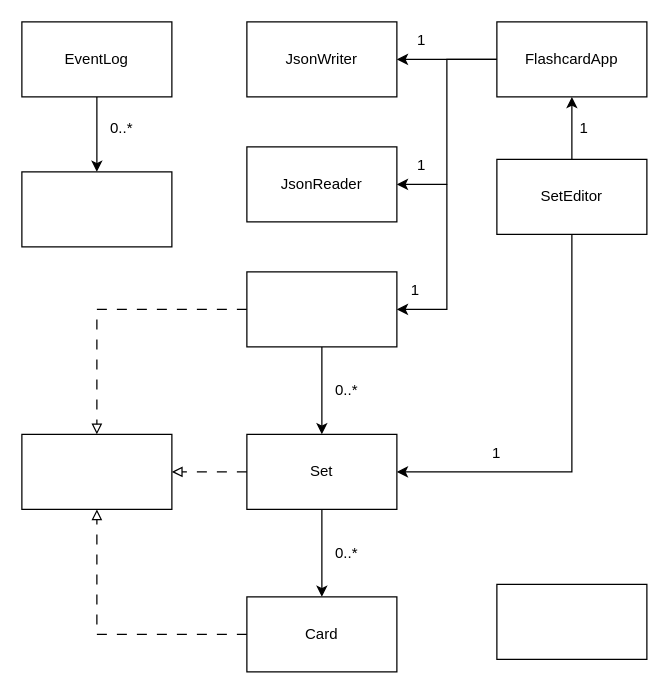
Image size: 669x694. Some labels were removed from this diagram. Here are the shapes that lost their labels. From the top down, the centre of each, then its label:
At (96,209): "Event".
At (321,309): "SetCollection".
At (96,471): "<<interface>> Writable".
At (571,621): "Main".
